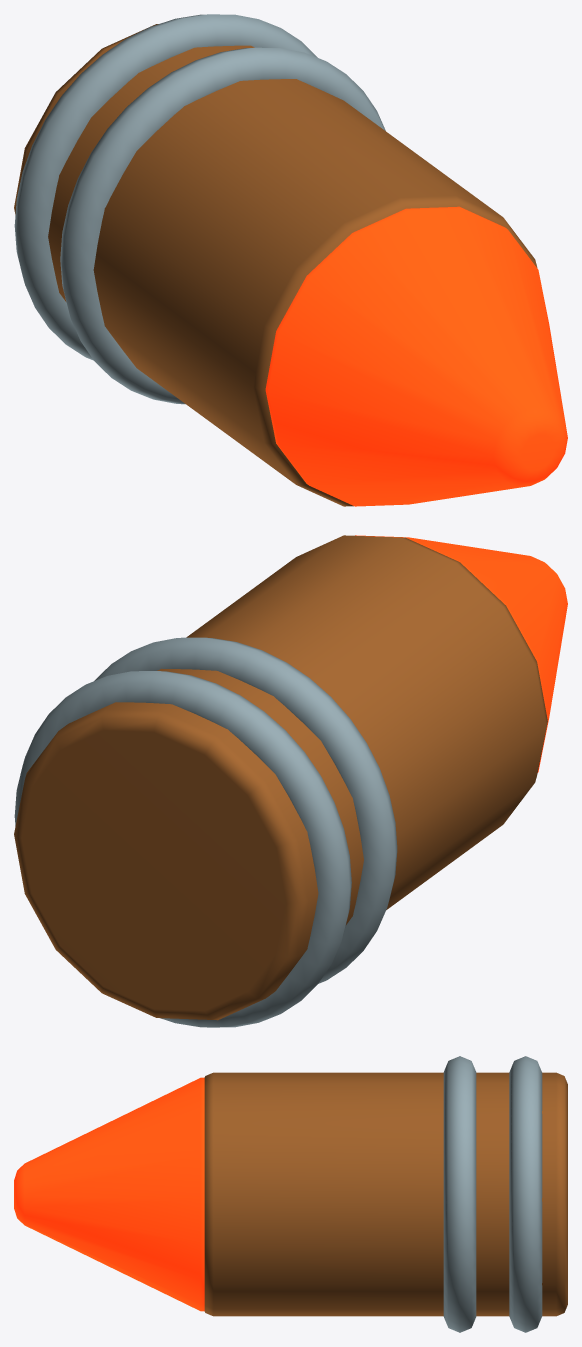
Rendered from Carrot_Normal.fbx.
3 renders of one model, top to bottom at view 1: azimuth 30°, elevation 25°; view 2: azimuth 150°, elevation 25°; view 3: azimuth 270°, elevation 25°, orthographic. The views are drawn at different scales.
Visible parts, largest first — view 1: Artillery casing, Ogive, Driving band.001, Driving band; view 2: Artillery casing, Driving band, Driving band.001, Ogive; view 3: Artillery casing, Ogive, Driving band.001, Driving band.
Part boxes in pixels (x1=…): Artillery casing: x1=14, y1=24, x2=537, y2=506; Ogive: x1=265, y1=206, x2=567, y2=506; Driving band.001: x1=60, y1=47, x2=385, y2=404; Driving band: x1=14, y1=14, x2=317, y2=360; Artillery casing: x1=14, y1=535, x2=547, y2=1020; Driving band: x1=14, y1=671, x2=351, y2=1027; Driving band.001: x1=94, y1=637, x2=397, y2=983; Ogive: x1=355, y1=535, x2=567, y2=772; Artillery casing: x1=204, y1=1072, x2=567, y2=1316; Ogive: x1=14, y1=1077, x2=204, y2=1311; Driving band.001: x1=443, y1=1056, x2=476, y2=1332; Driving band: x1=509, y1=1056, x2=542, y2=1332.
Size of the model in its own units: 59 by 59 by 118.
